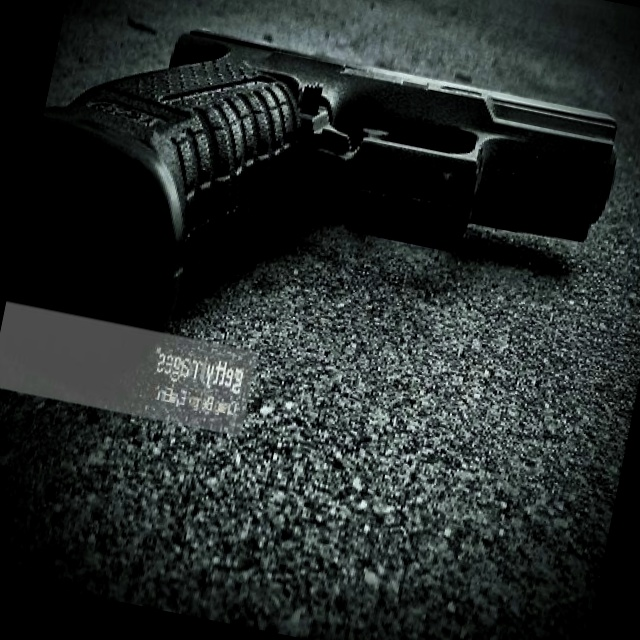gun: (23, 0, 635, 349)
